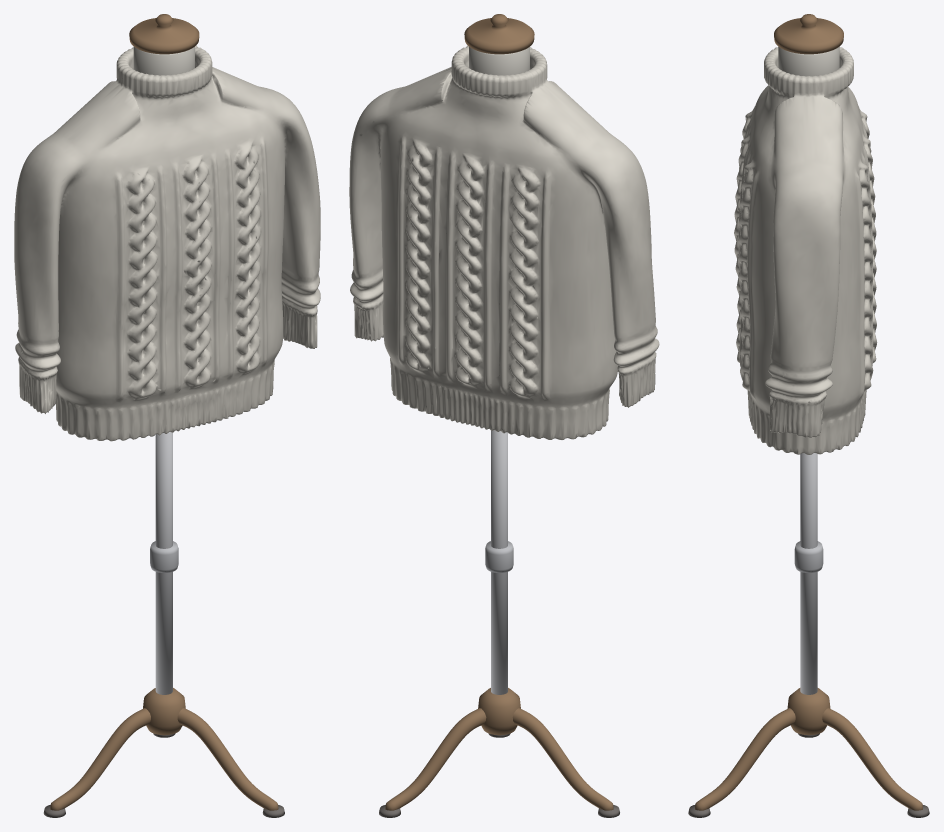
Rendered from sweater.glb.
3 views of the same model, side by side, from view 1: azimuth 30°, elevation 25°; view 2: azimuth 150°, elevation 25°; view 3: azimuth 270°, elevation 25° (orthographic).
Parts seen in each view (by area): view 1: sweater, wood, metal, form; view 2: sweater, wood, metal, form; view 3: sweater, wood, metal, form.
Boxes of the visible parts, bbox=[...] form: sweater: bbox=[14, 46, 320, 441]; wood: bbox=[50, 14, 278, 810]; metal: bbox=[150, 432, 178, 694]; form: bbox=[43, 47, 284, 817]; sweater: bbox=[349, 45, 659, 439]; wood: bbox=[385, 14, 613, 810]; metal: bbox=[485, 430, 513, 694]; form: bbox=[379, 47, 619, 817]; sweater: bbox=[734, 47, 877, 454]; wood: bbox=[695, 14, 922, 810]; metal: bbox=[794, 453, 823, 694]; form: bbox=[688, 47, 929, 817].
Bounding box in the file's own units: 1.67 × 4.17 × 1.18.
